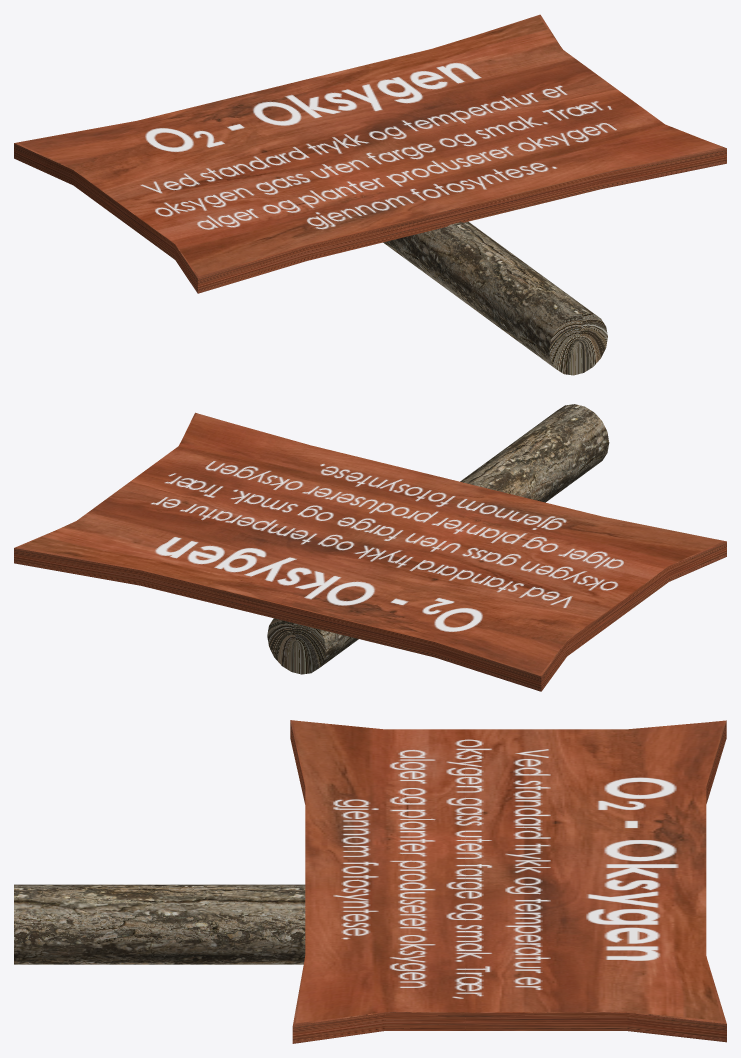
Rendered from SkiltO2.FBX.
The picture shows the model from 3 angles, top to bottom: view 1: azimuth 30°, elevation 25°; view 2: azimuth 150°, elevation 25°; view 3: azimuth 270°, elevation 25°; orthographic projection. The views are drawn at different scales.
Parts seen in each view (by area): view 1: Teksta, Cylinder001, Box002; view 2: Teksta, Box002, Cylinder001; view 3: Teksta, Cylinder001, Box002.
Boxes of the visible parts, bbox=[...] form: Teksta: bbox=[17, 16, 722, 276]; Cylinder001: bbox=[383, 221, 607, 375]; Box002: bbox=[14, 14, 726, 293]; Teksta: bbox=[20, 413, 723, 674]; Box002: bbox=[14, 412, 726, 691]; Cylinder001: bbox=[267, 404, 609, 674]; Teksta: bbox=[292, 720, 724, 1023]; Cylinder001: bbox=[14, 884, 305, 964]; Box002: bbox=[290, 720, 726, 1043].
Bounding box in the file's own units: 108 × 14.69 × 107.
Materials: 3 (3 with a texture image).
